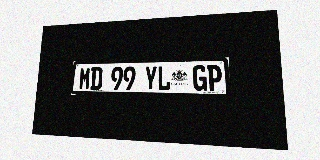9: (123, 66, 136, 90), (111, 67, 123, 90)
D: (90, 67, 103, 90)
G: (193, 65, 207, 91)
L: (157, 66, 171, 90)
M: (79, 67, 91, 90)
P: (207, 65, 222, 91)
Y: (144, 66, 157, 90)
